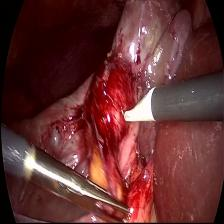Grasper: (34, 149, 132, 224)
Hook: (118, 86, 160, 132)
